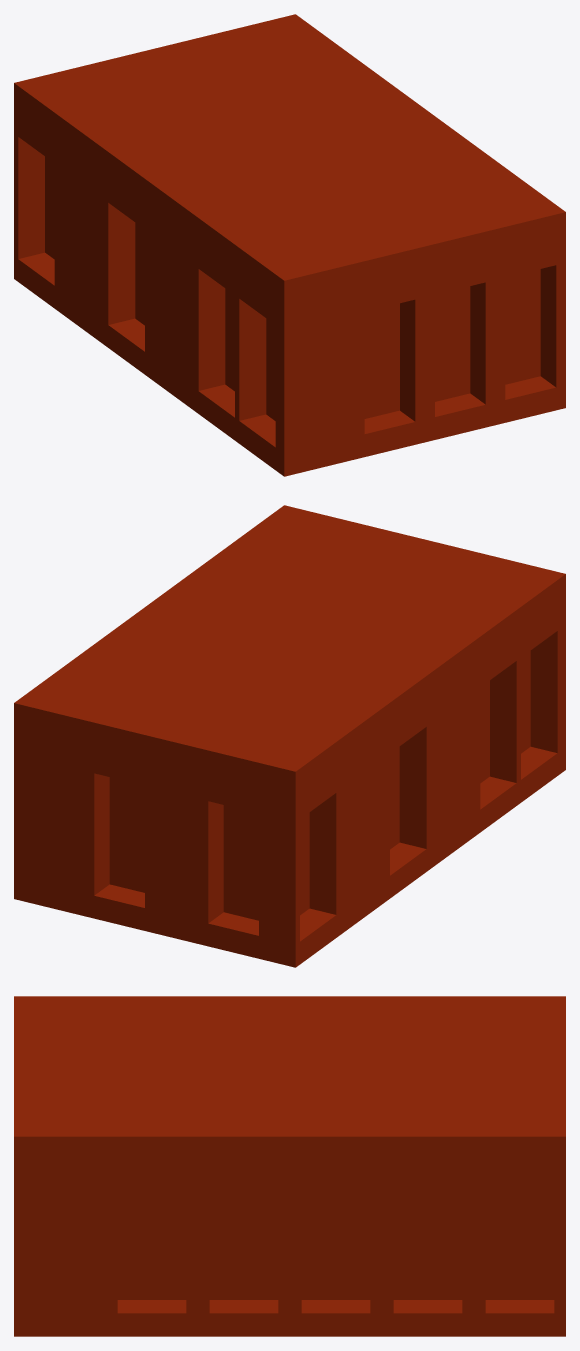
The model's file is SM_Bat1.fbx.
3 views of the same model, one above another, from view 1: azimuth 30°, elevation 25°; view 2: azimuth 150°, elevation 25°; view 3: azimuth 270°, elevation 25° (orthographic). The views are drawn at different scales.
Parts seen in each view (by area): view 1: Bat1; view 2: Bat1; view 3: Bat1.
Boxes of the visible parts, x1,y1,x2,y2 form: Bat1: (14,14,565,476); Bat1: (14,505,565,967); Bat1: (14,996,565,1336).
Bounding box in the file's own units: 301 × 200 × 500.
